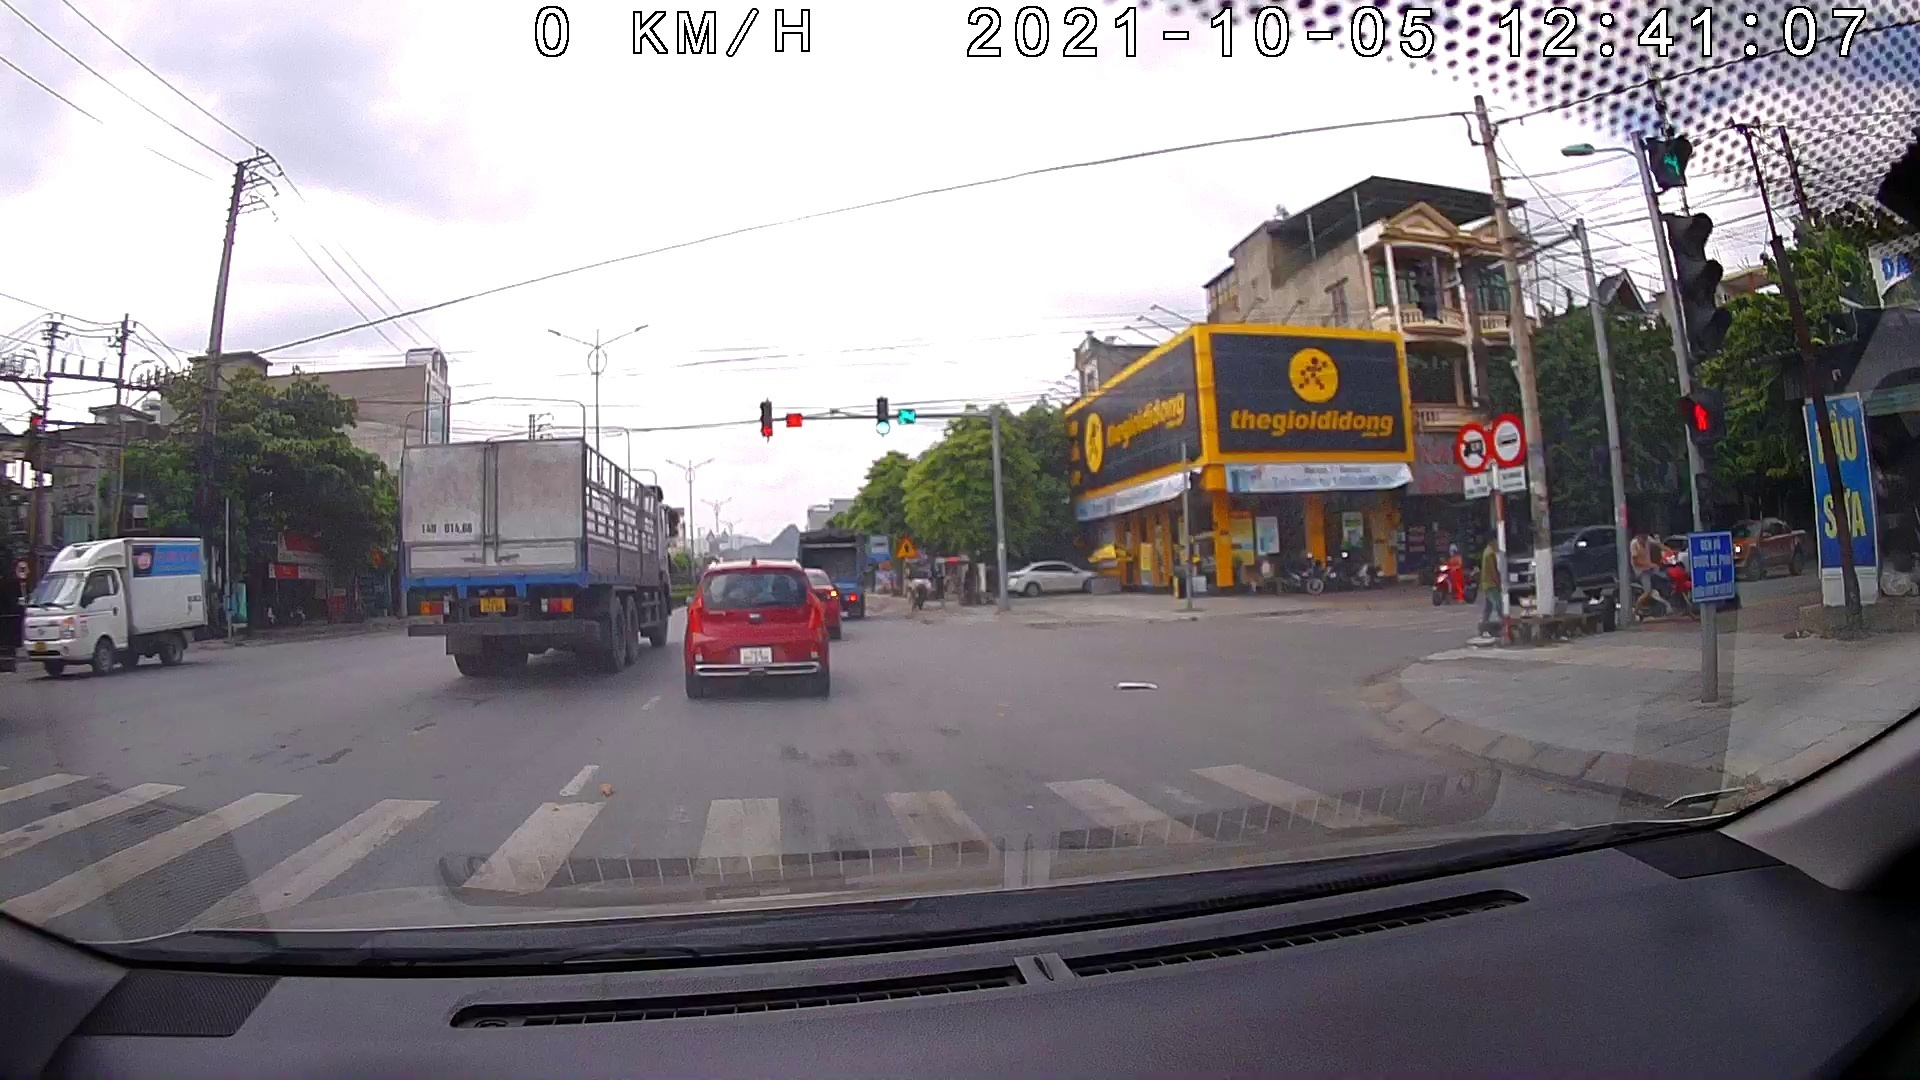Bien khac: (1456, 419, 1487, 473), (1491, 417, 1524, 460)
Giao nhau voi duong khong uu tien: (893, 535, 918, 556)
